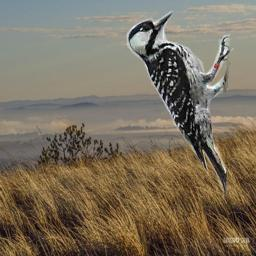Woodpecker: (125, 11, 234, 206)
